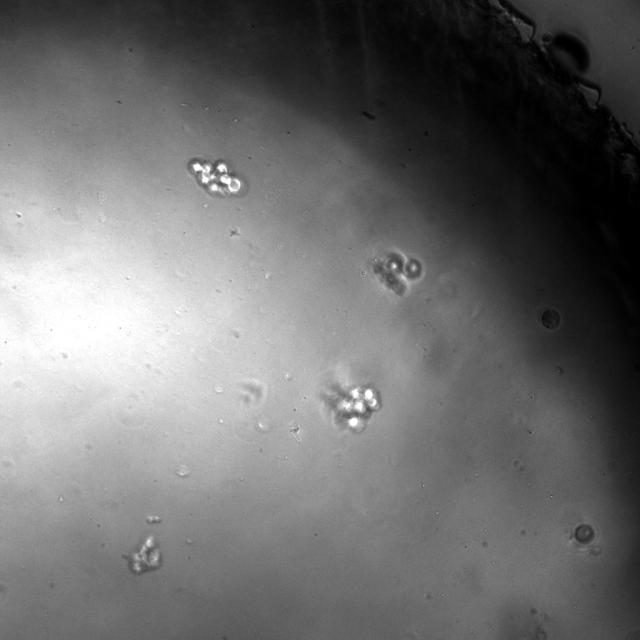organoid: (324, 385, 381, 432), (188, 157, 245, 197), (372, 252, 421, 295), (123, 536, 161, 574), (574, 524, 594, 544), (541, 309, 559, 329)
